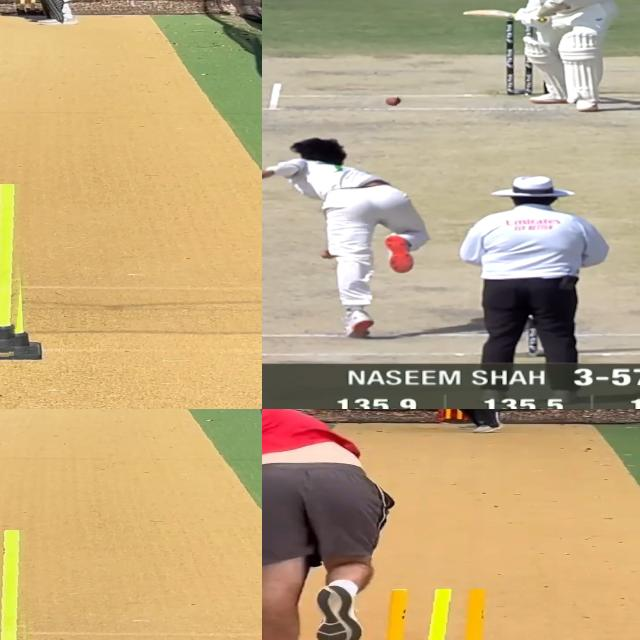Cricket ball: (383, 96, 403, 107)
Stumps: (373, 589, 507, 640), (0, 184, 30, 364), (0, 530, 37, 640)
